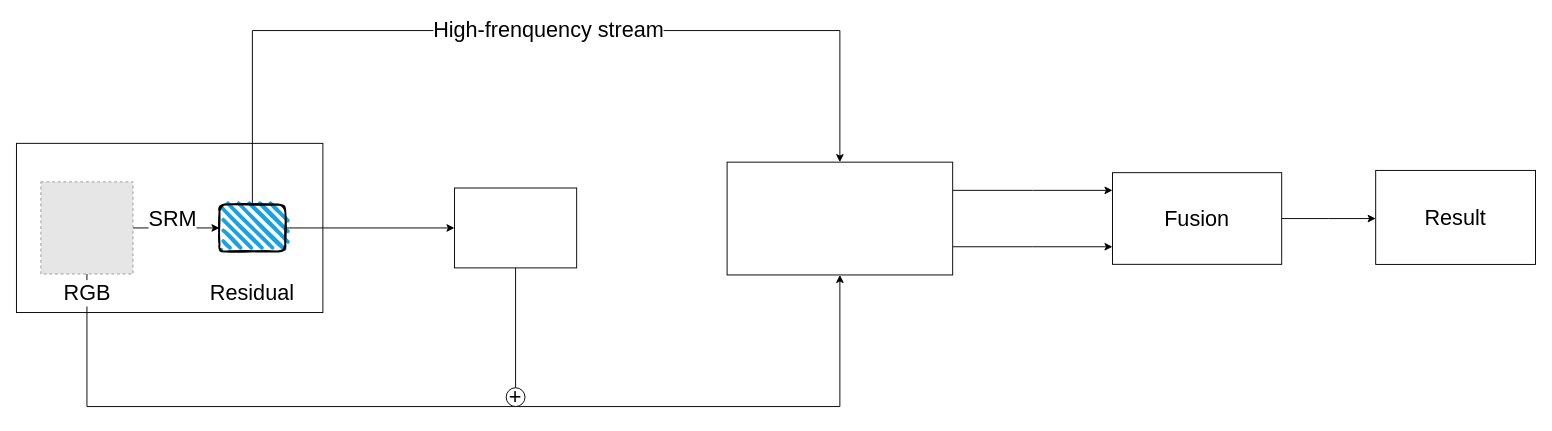
This 1552x431 diagram has some shape labels left out. Grey dashed boxes stand in for pictures. The shapes that lost their labels are listed below. From the top down, each one's centre as x and y in pixels, then its label:
the point at 515,227: Residual Guided SA Module
the point at 839,218: DCMA
